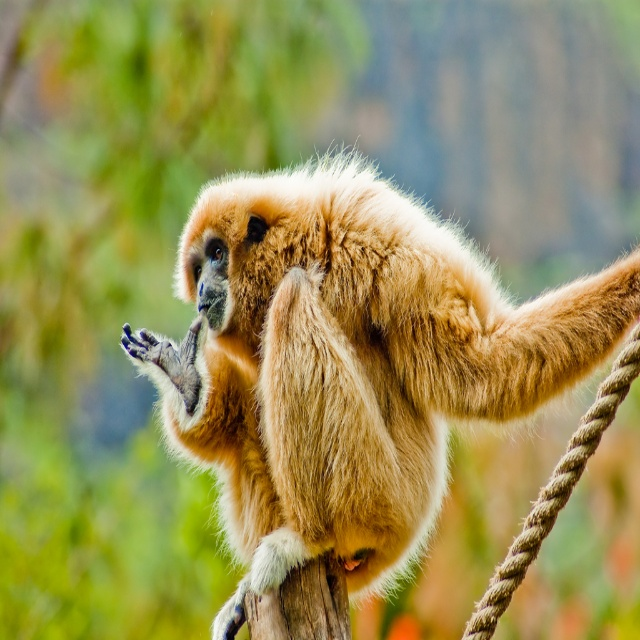Monkey: (118, 134, 640, 640)
